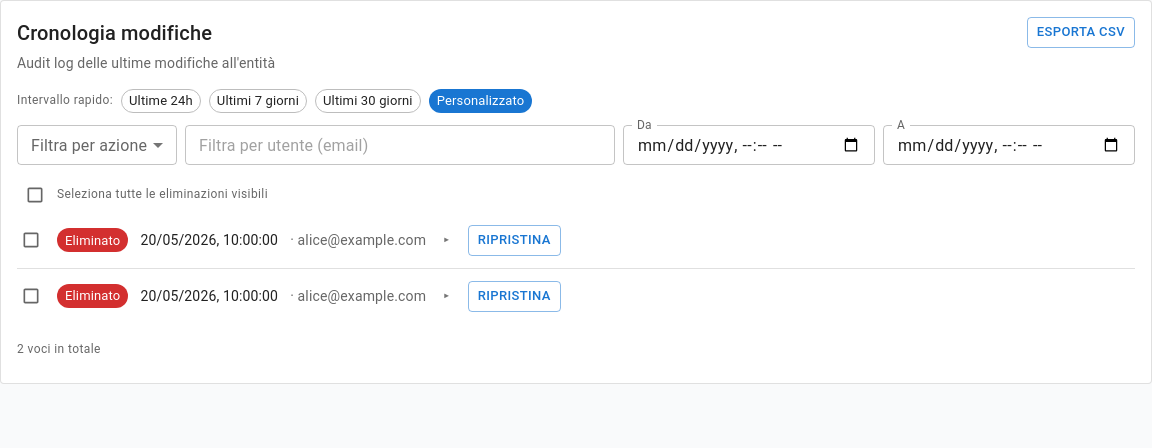
Scenario: AuditHistoryPanel › master checkbox indeterminate when SOME but not all DELETE selected
Expected: the text "Eliminato" is shown 2 times, [65,233,120,248]; [65,288,120,303]
Step 1. Click the checkbox named "Seleziona voce di cronologia Trait:trait-1" → (31, 240), box [21,230,41,250]
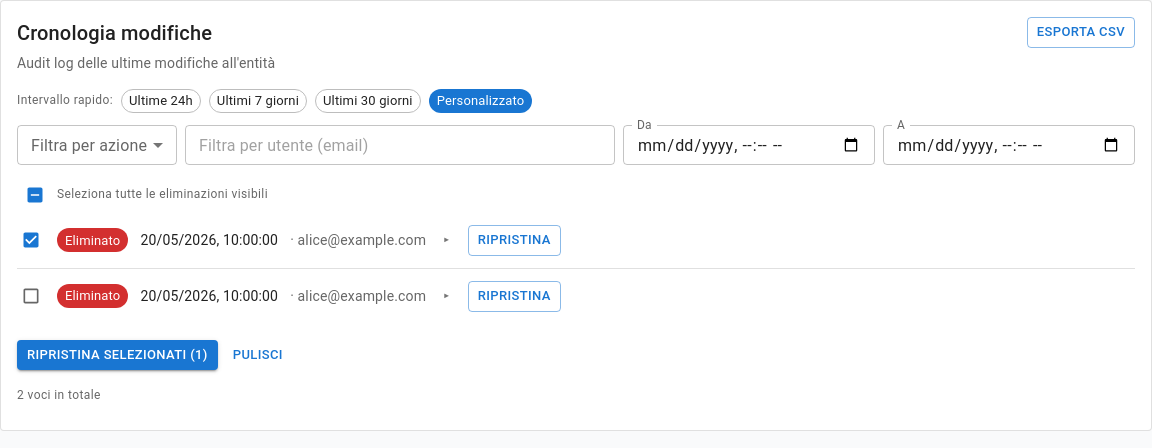
Expected: the checkbox named "Seleziona tutte le eliminazioni visibili" is not checked, [25,185,45,205]
Expected: the button "Ripristina selezionati (1)" is shown, [17,340,218,370]
